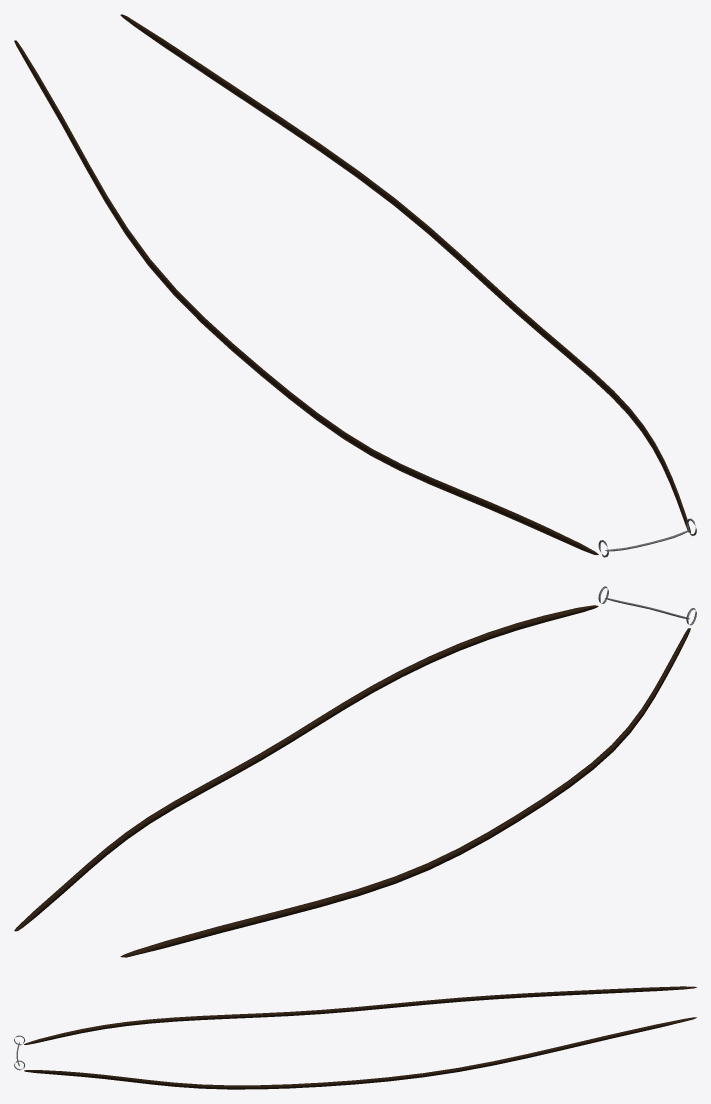
File: frontier_caravan_reins_lod2.glb
3 renders of one model, top to bottom at view 1: azimuth 30°, elevation 25°; view 2: azimuth 150°, elevation 25°; view 3: azimuth 270°, elevation 25°, orthographic. The views are drawn at different scales.
Parts seen in each view (by area): view 1: frontier_caravan_reins_lod2; view 2: frontier_caravan_reins_lod2; view 3: frontier_caravan_reins_lod2.
Part boxes in pixels (x1,y1,x2,y2): frontier_caravan_reins_lod2: [14, 14, 696, 557]; frontier_caravan_reins_lod2: [14, 586, 696, 957]; frontier_caravan_reins_lod2: [14, 986, 696, 1089].
Bounding box in the file's own units: 1 × 0.3537 × 3.91.
Materials: 1 (1 with a texture image).
